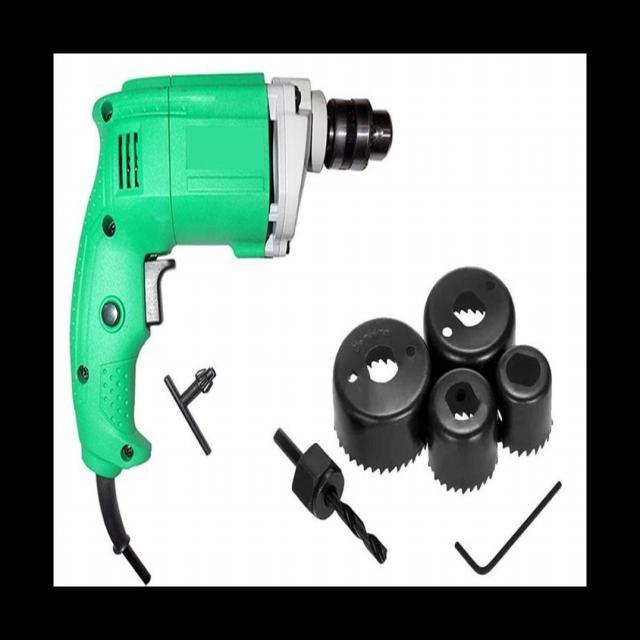drill: (69, 71, 394, 587)
